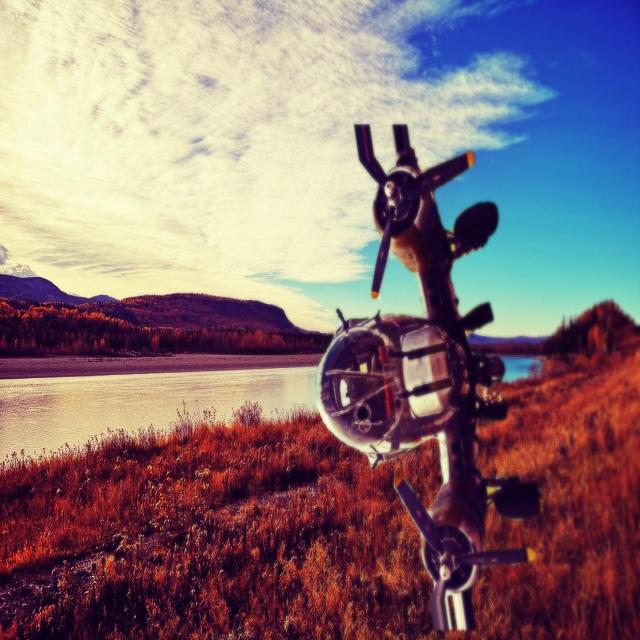airplane: (314, 121, 545, 633)
